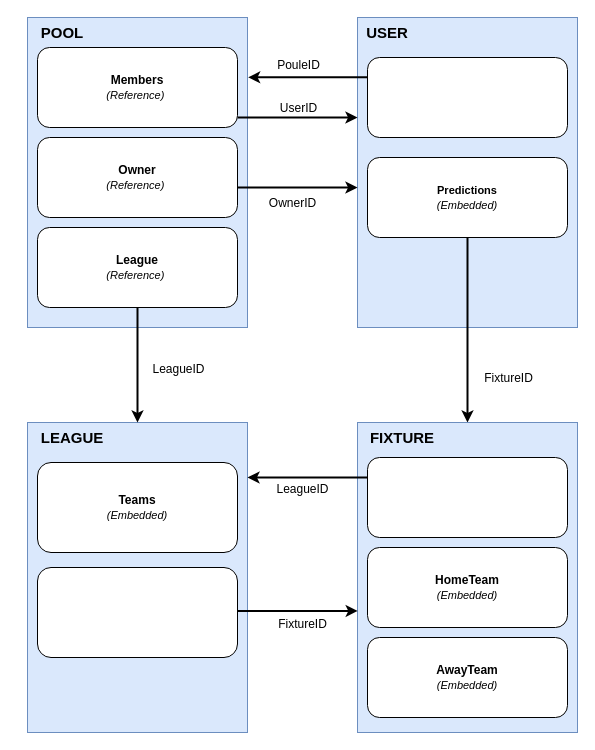
Some shapes in this 595 by 750 pixel diagram are drawn without their labels. Here are the shapes that lost their labels. From the top down, the centre of each, then its label:
point (467, 97): Poules (Reference)
point (467, 497): League (Embedded)
point (137, 612): Fixtures (Reference)
